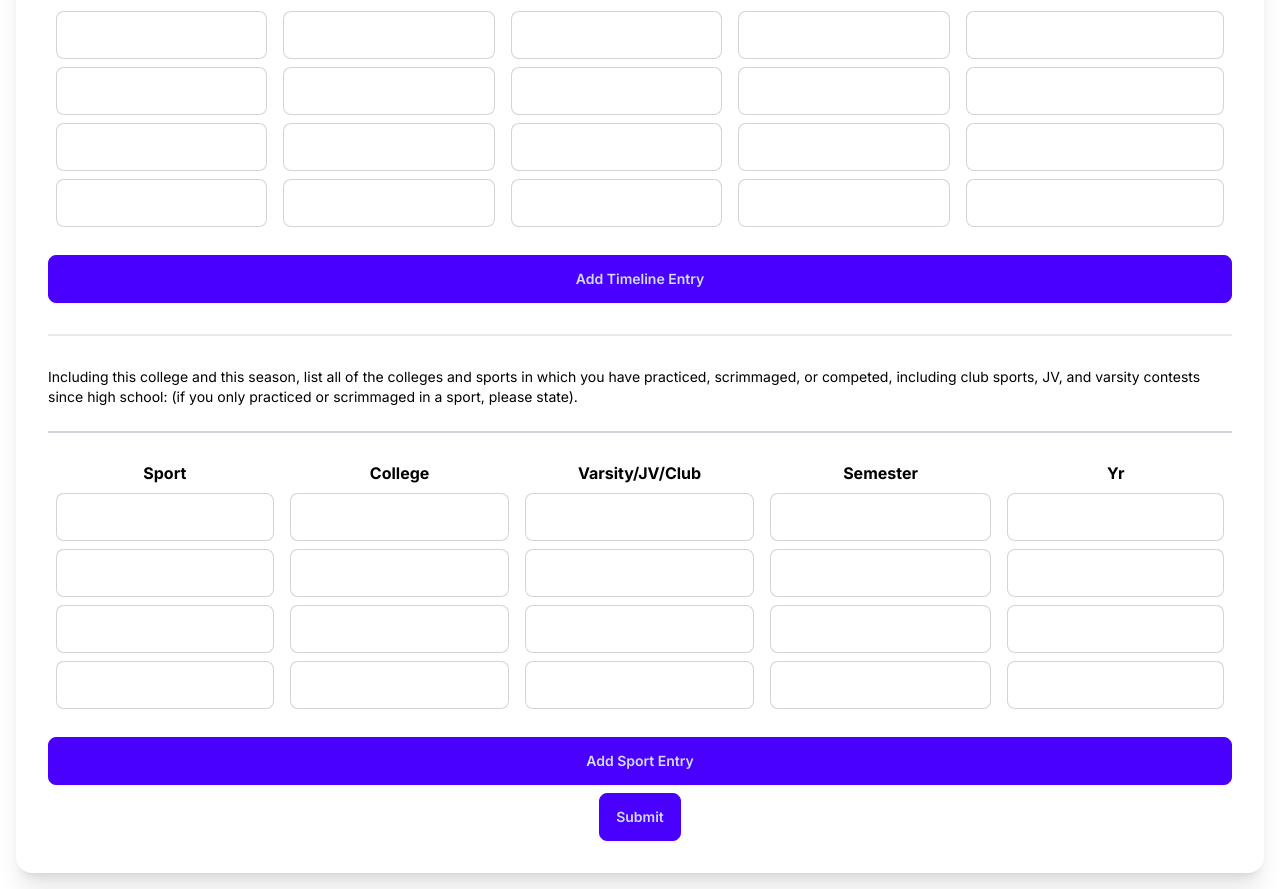
Test case: Form › displays error messages for required fields
(page scrolled)
What coordinates should you click on to do the following:
click the button "Submit"
I would click on:
 (640, 817)
Its box is [599, 793, 681, 841].
(page scrolled)
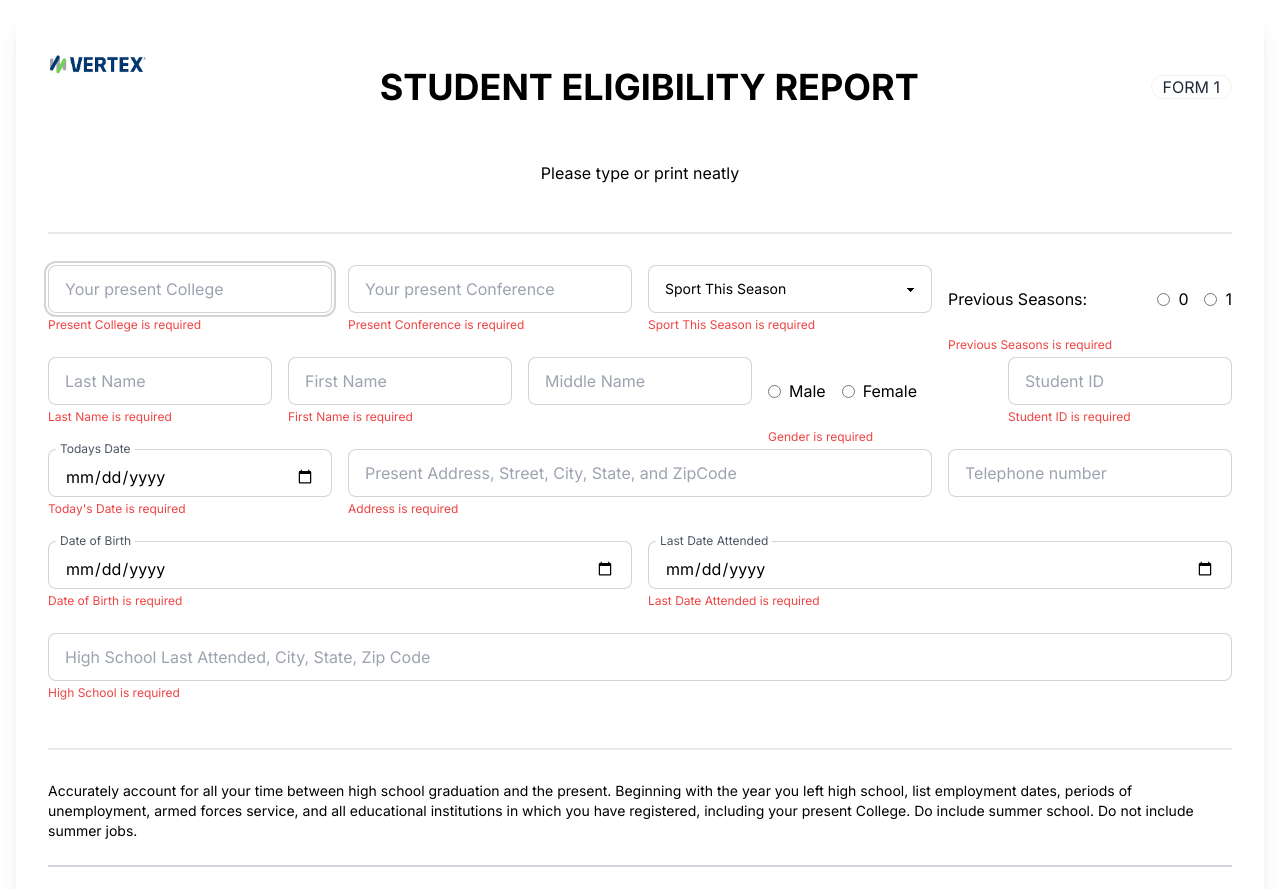
Now the text "Present College is required" is shown, box [48, 317, 201, 332]
